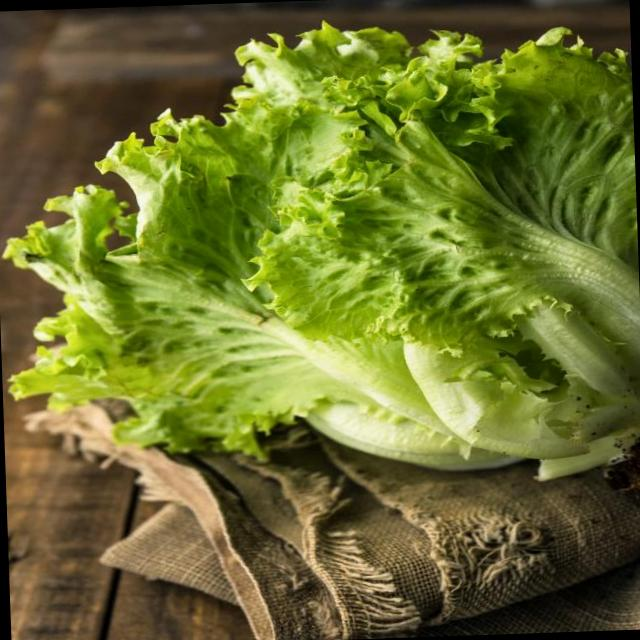Lettuce-Ready-to-Harvest: (5, 25, 640, 478)
